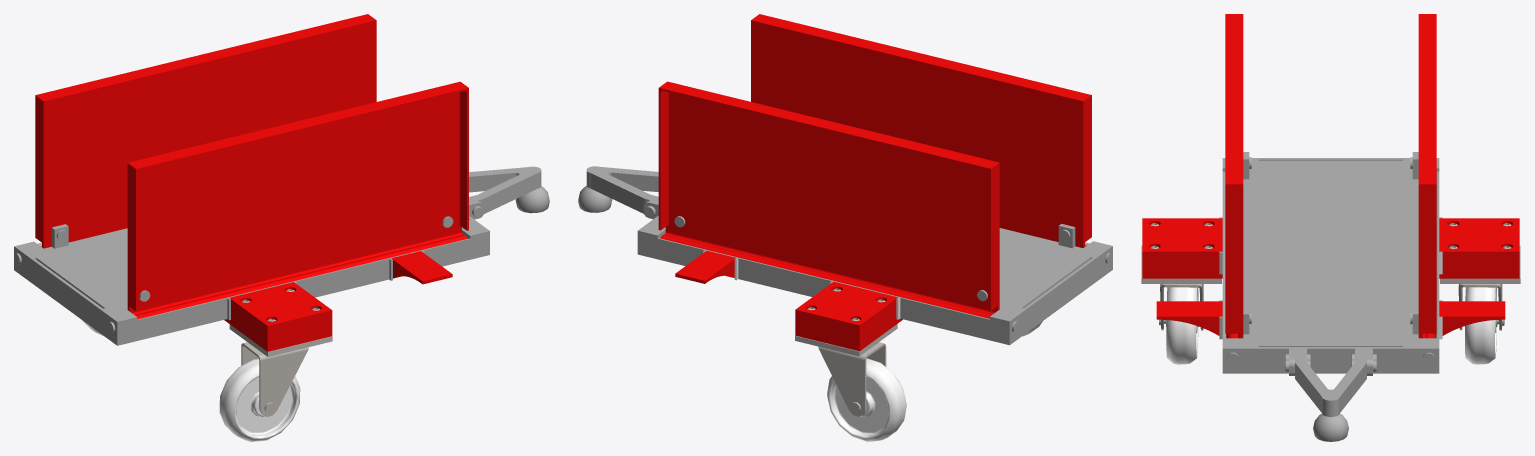
File: semitrailerNEROcolored_Closed.obj
3 renders of one model, left to right at view 1: azimuth 30°, elevation 25°; view 2: azimuth 150°, elevation 25°; view 3: azimuth 270°, elevation 25°, orthographic. The views are drawn at different scales.
Parts seen in each view (by area): view 1: Solid1:18, Solid1:17, Solid1:12, Solid1:13, Solid1:4, Solid1:1, Solid1:3, Solid1:16, Solid1, Solid1:2; view 2: Solid1:17, Solid1:18, Solid1:12, Solid1:14, Solid1:9, Solid1:1, Solid1:8, Solid1:15, Solid1, Solid1:7; view 3: Solid1:12, Solid1:17, Solid1:18, Solid1:13, Solid1:14, Solid1:1, Solid1:4, Solid1:9, Solid1:15, Solid1:16, Solid1, Solid1:2 (+1 smaller).
Boxes of the visible parts, x1=… form: Solid1:18: x1=127, y1=81, x2=468, y2=319; Solid1:17: x1=35, y1=14, x2=376, y2=248; Solid1:12: x1=14, y1=200, x2=489, y2=345; Solid1:13: x1=224, y1=282, x2=332, y2=351; Solid1:4: x1=219, y1=359, x2=300, y2=441; Solid1:1: x1=469, y1=166, x2=541, y2=213; Solid1:3: x1=241, y1=342, x2=308, y2=416; Solid1:16: x1=391, y1=251, x2=452, y2=284; Solid1: x1=515, y1=186, x2=549, y2=213; Solid1:2: x1=229, y1=324, x2=332, y2=356; Solid1:17: x1=658, y1=81, x2=999, y2=318; Solid1:18: x1=751, y1=14, x2=1091, y2=247; Solid1:12: x1=637, y1=200, x2=1112, y2=345; Solid1:14: x1=795, y1=281, x2=902, y2=351; Solid1:9: x1=827, y1=358, x2=906, y2=441; Solid1:1: x1=586, y1=166, x2=658, y2=213; Solid1:8: x1=818, y1=342, x2=886, y2=416; Solid1:15: x1=675, y1=250, x2=735, y2=283; Solid1: x1=578, y1=186, x2=612, y2=212; Solid1:7: x1=795, y1=324, x2=897, y2=356; Solid1:12: x1=1219, y1=158, x2=1442, y2=375; Solid1:17: x1=1418, y1=14, x2=1436, y2=338; Solid1:18: x1=1225, y1=14, x2=1243, y2=338; Solid1:13: x1=1142, y1=218, x2=1222, y2=278; Solid1:14: x1=1439, y1=218, x2=1519, y2=278; Solid1:1: x1=1295, y1=348, x2=1366, y2=416; Solid1:4: x1=1166, y1=287, x2=1198, y2=364; Solid1:9: x1=1465, y1=287, x2=1496, y2=364; Solid1:15: x1=1439, y1=301, x2=1505, y2=335; Solid1:16: x1=1156, y1=301, x2=1222, y2=335; Solid1: x1=1313, y1=414, x2=1348, y2=441; Solid1:2: x1=1141, y1=245, x2=1221, y2=283.
Bounding box in the file's own units: 487 × 269 × 315.
